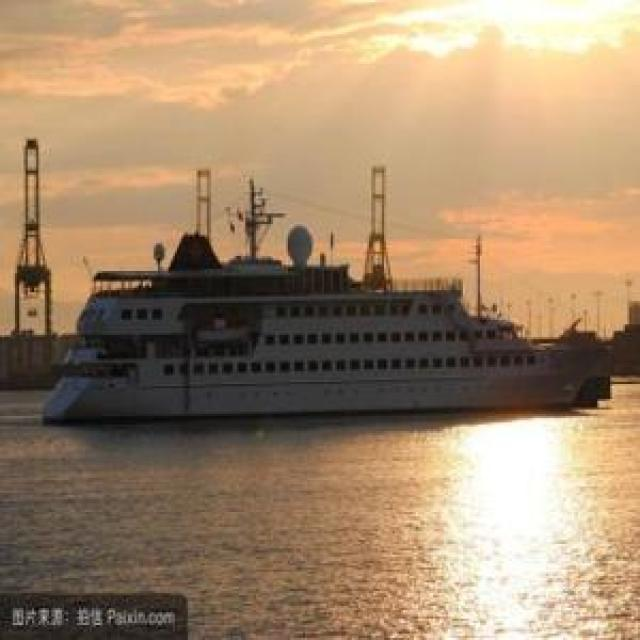passenger ship: (39, 244, 603, 422)
